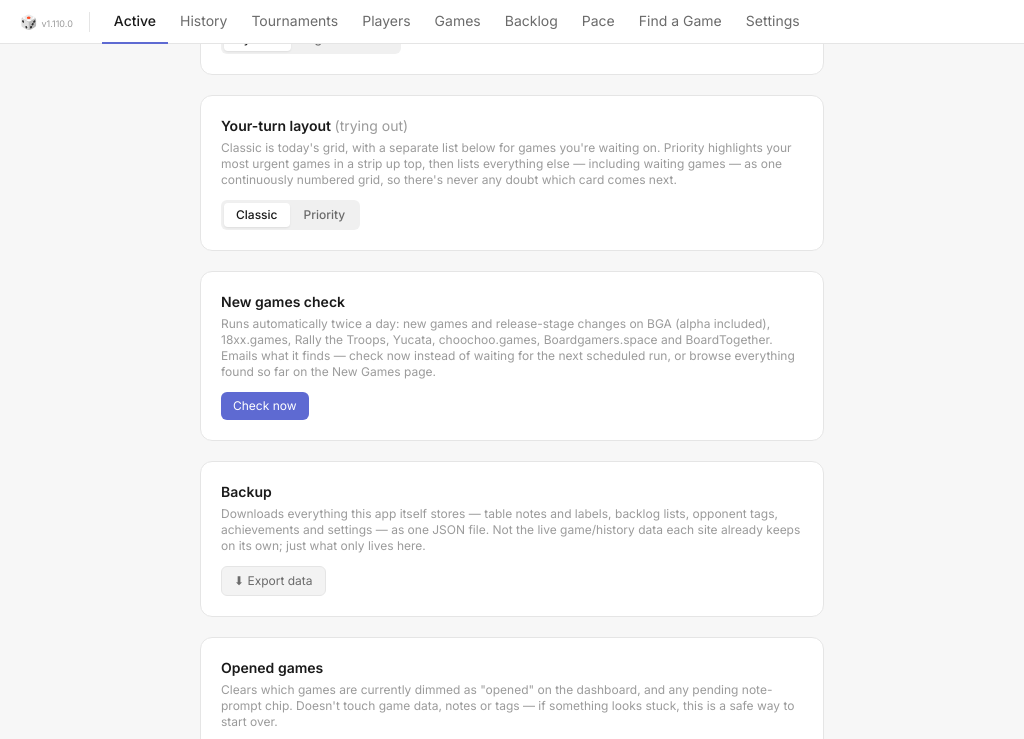
Test: Setup page: New games check › runs the real check on demand and reports what it found
The image size is (1024, 739).
(page scrolled)
Click the button "Check now" at (265, 406), box left=221, top=392, right=309, bottom=420
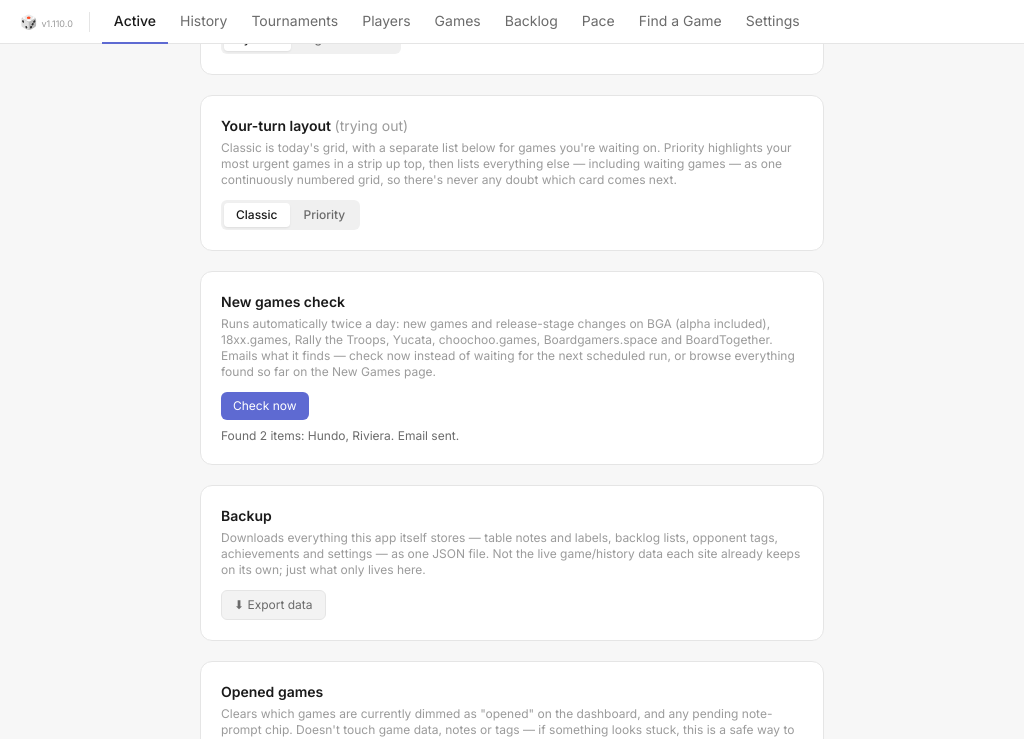
Result: the text "Found 2 items: Hundo, Riviera. Email sent." is shown at left=221, top=428, right=459, bottom=443
